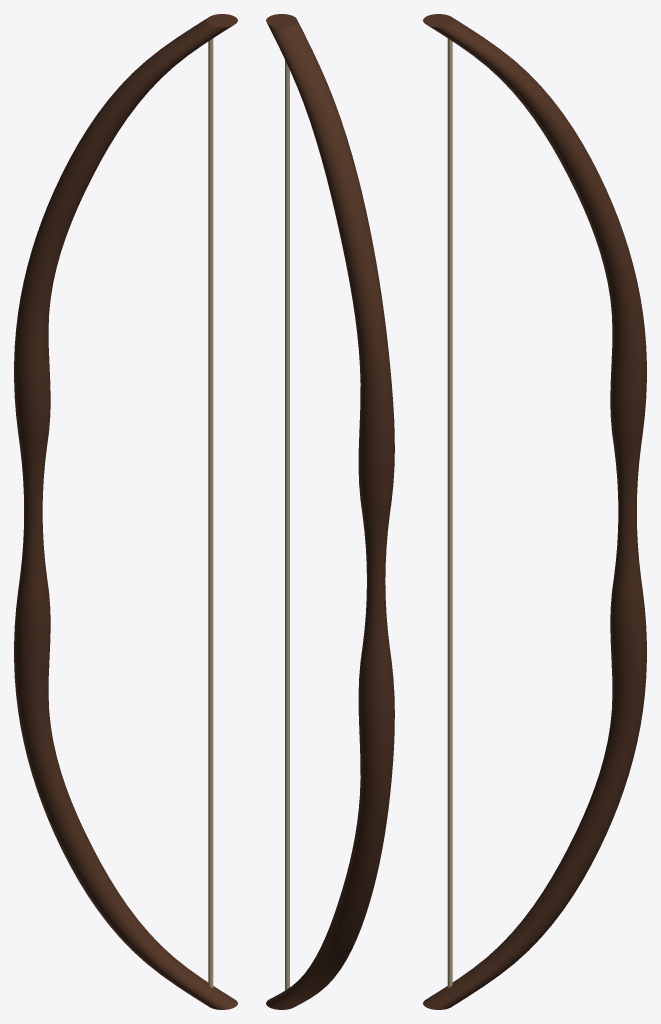
Rendered from recurve_walnut.glb.
3 renders of one model, left to right at view 1: azimuth 90°, elevation 25°; view 2: azimuth 210°, elevation 25°; view 3: azimuth 270°, elevation 25°, orthographic.
Parts seen in each view (by area): view 1: angular_limbs, string; view 2: angular_limbs, string; view 3: angular_limbs, string.
Boxes of the visible parts, bbox=[...] form: angular_limbs: bbox=[14, 14, 237, 1009]; string: bbox=[208, 38, 213, 987]; angular_limbs: bbox=[266, 14, 394, 1009]; string: bbox=[285, 60, 289, 990]; angular_limbs: bbox=[423, 14, 646, 1009]; string: bbox=[447, 38, 452, 987].
Size of the model in its own units: 0.0567 by 1.7 by 0.351.
